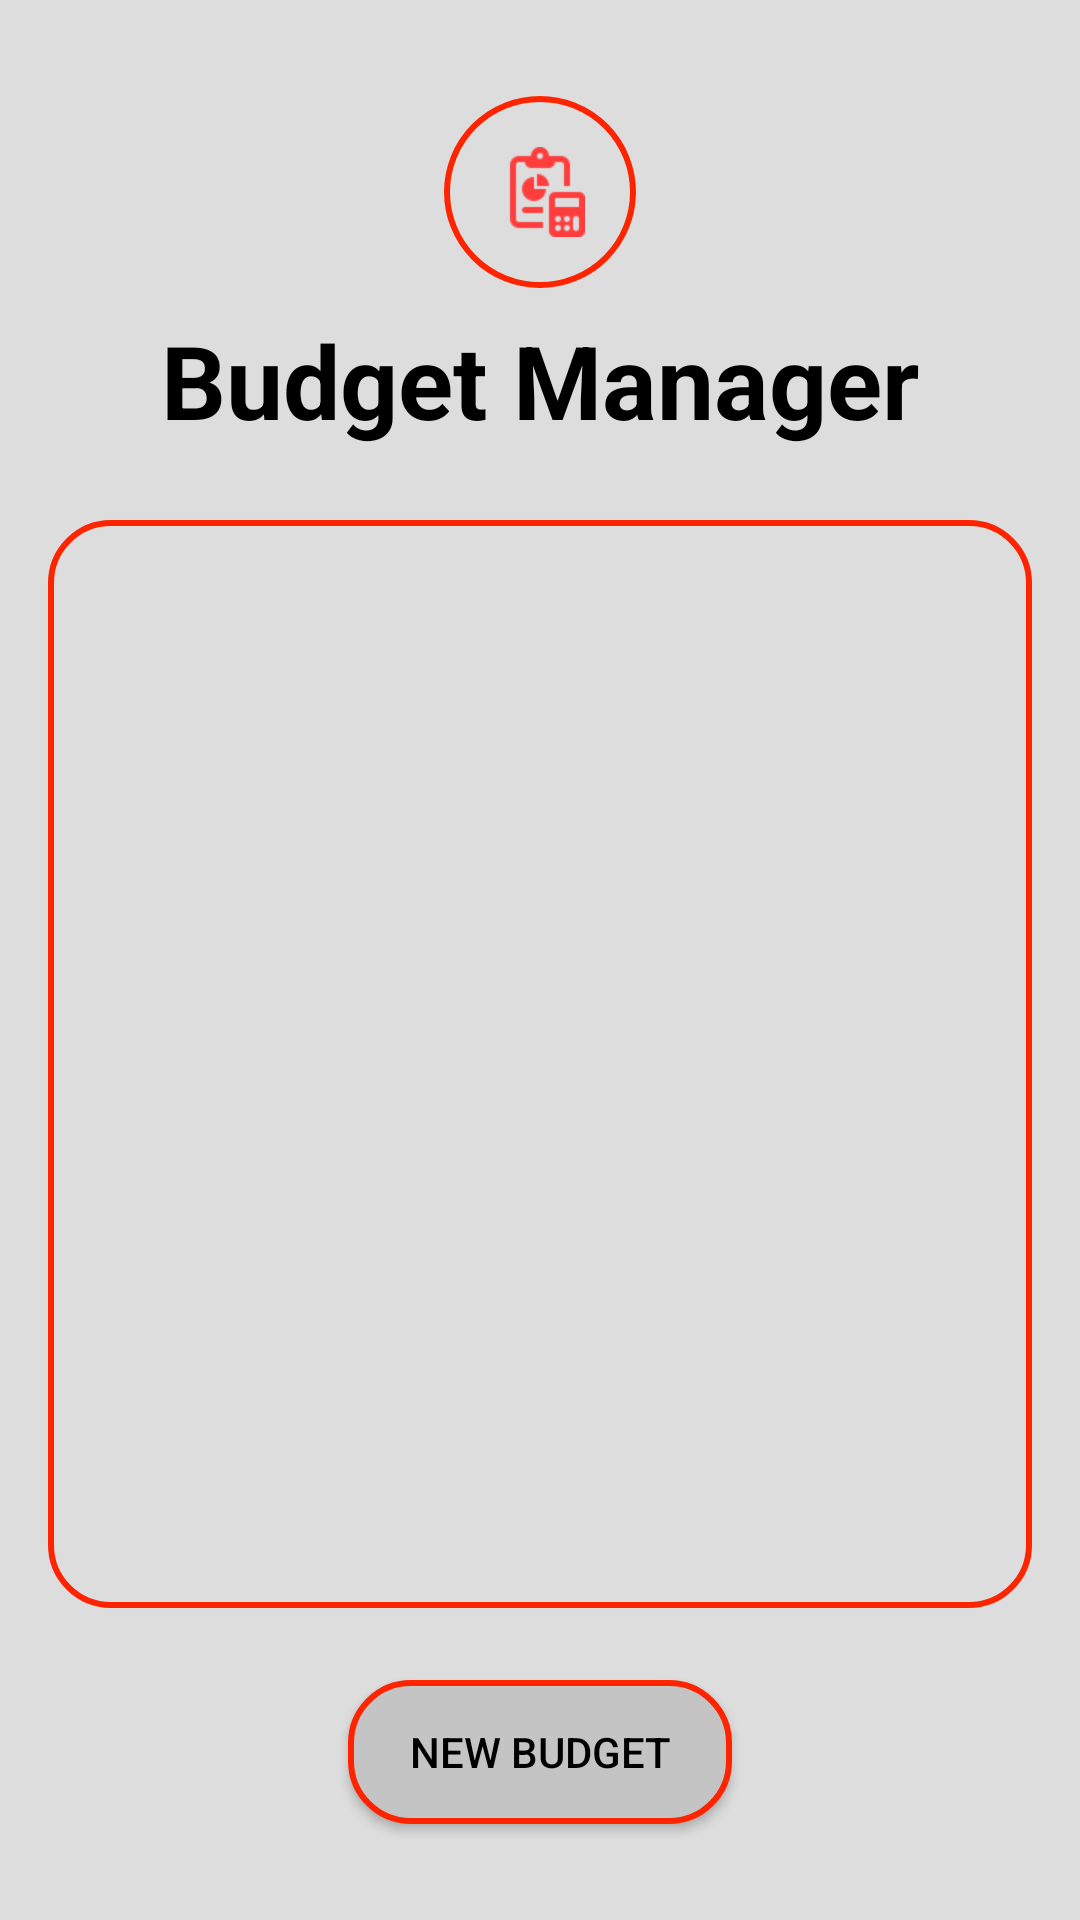

Named icons in this screenshot (1080*1920) and their centers, (x=x, y=y):
App Icon: (x=540, y=192)
